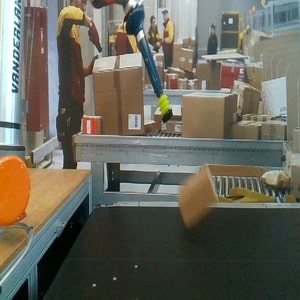box: (175, 163, 220, 232)
